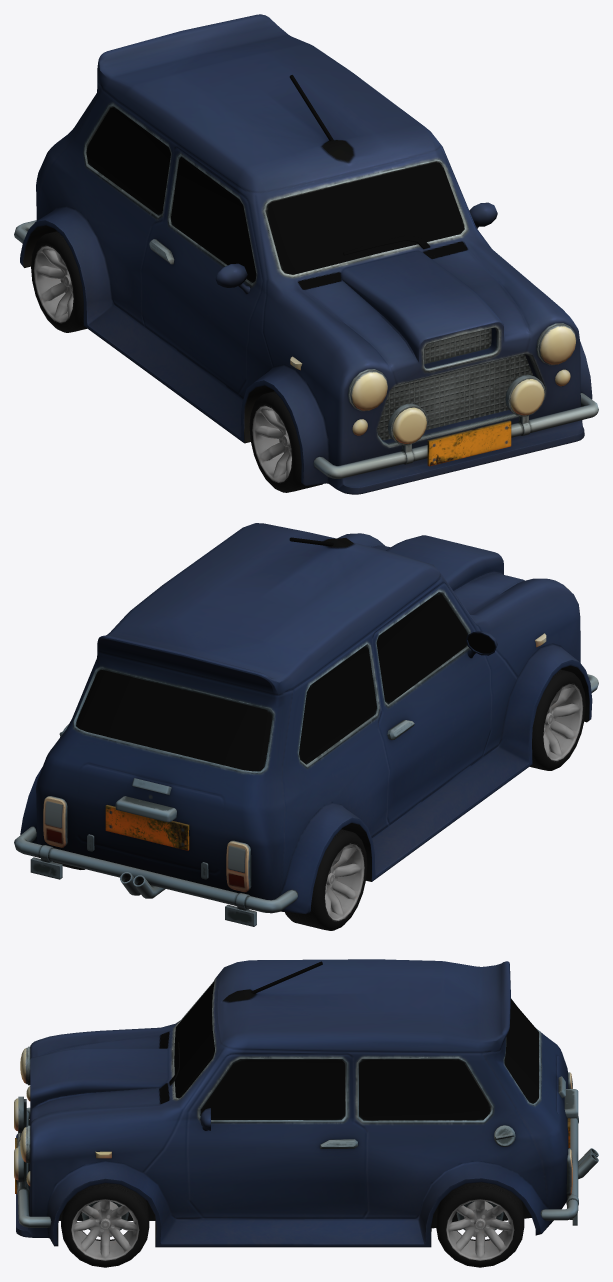
File: miniCooper.fbx
The picture shows the model from 3 angles, top to bottom: view 1: azimuth 30°, elevation 25°; view 2: azimuth 150°, elevation 25°; view 3: azimuth 270°, elevation 25°; orthographic projection. The views are drawn at different scales.
Parts seen in each view (by area): view 1: body, wheelBackR, wheelFrontR; view 2: body, wheelBackR, wheelFrontR; view 3: body, wheelBackL, wheelFrontL.
Part boxes in pixels (bbox=[...]): body: bbox=[14, 14, 598, 494]; wheelBackR: bbox=[31, 231, 86, 332]; wheelFrontR: bbox=[249, 391, 322, 492]; body: bbox=[14, 523, 598, 926]; wheelBackR: bbox=[285, 829, 367, 930]; wheelFrontR: bbox=[529, 669, 585, 770]; body: bbox=[14, 959, 598, 1247]; wheelBackL: bbox=[436, 1182, 524, 1267]; wheelFrontL: bbox=[61, 1183, 149, 1267].
Size of the model in its own units: 186 by 176 by 378.
